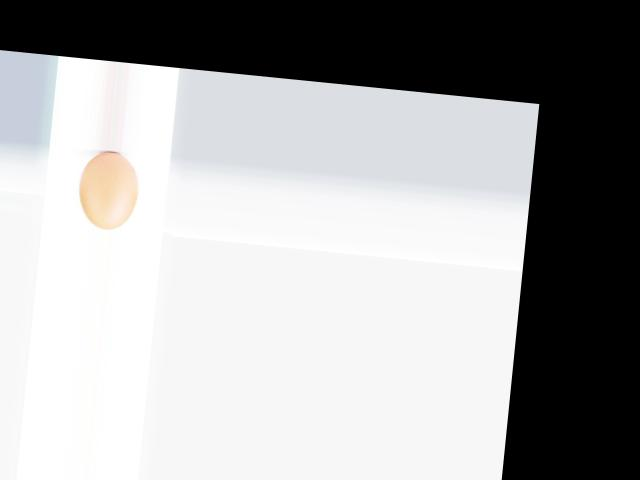egg: (74, 149, 141, 231)
